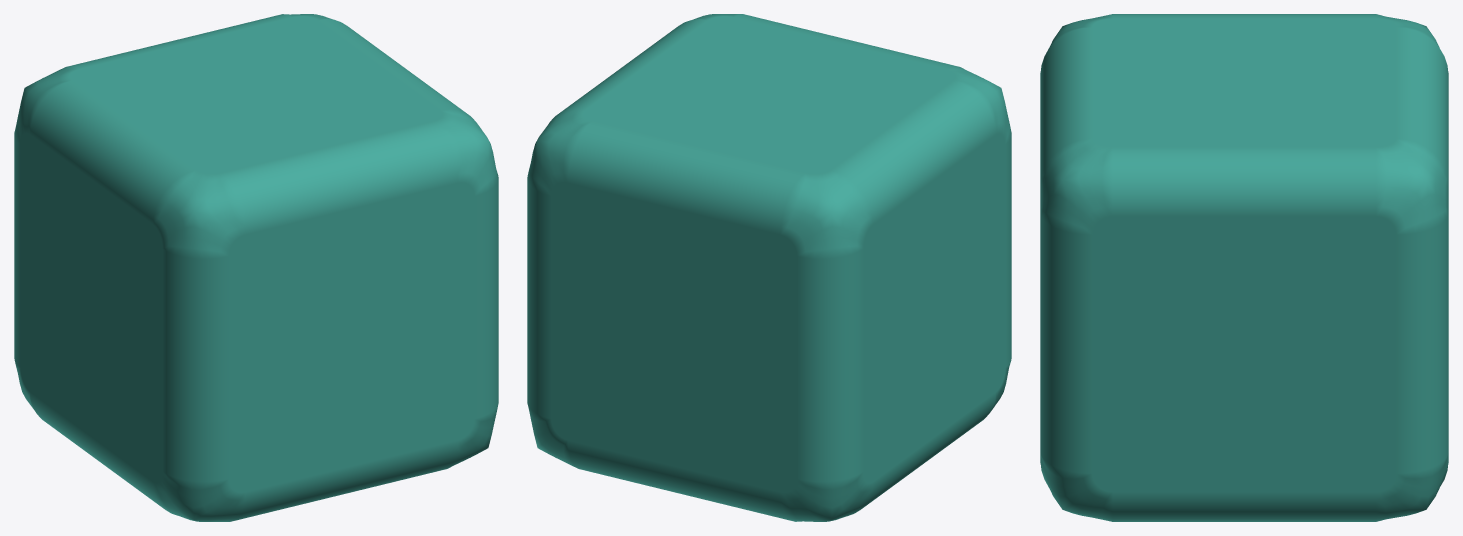
Rendered from lobby.glb.
3 renders of one model, left to right at view 1: azimuth 30°, elevation 25°; view 2: azimuth 150°, elevation 25°; view 3: azimuth 270°, elevation 25°, orthographic. The views are drawn at different scales.
Visible parts, largest first — view 1: lobby; view 2: lobby; view 3: lobby.
Boxes of the visible parts, <box> form: lobby: <box>14,14,498,521</box>; lobby: <box>527,14,1011,521</box>; lobby: <box>1040,14,1448,521</box>.
Bounding box in the file's own units: 2.13 × 2.13 × 2.13.
